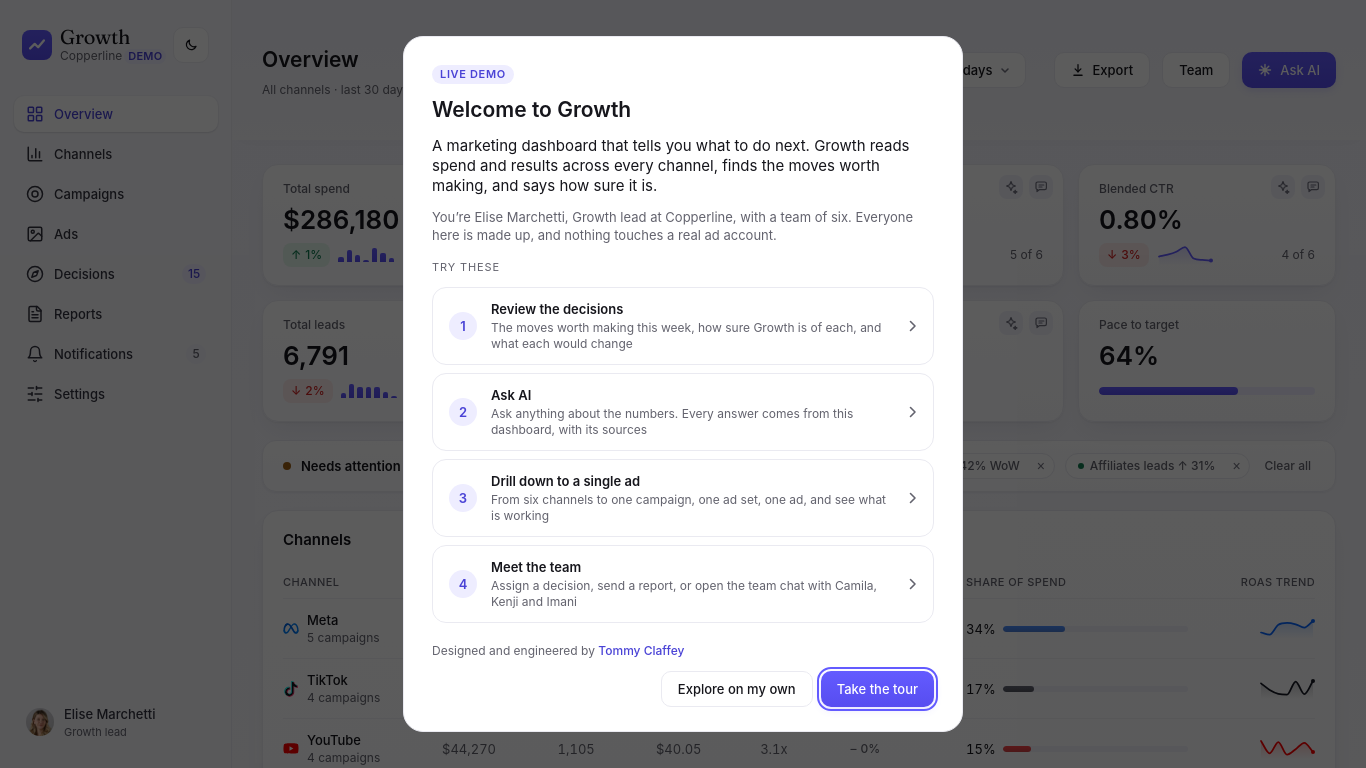
Scenario: the demo welcome card › opens on a demo account's first visit, says what this is, and remembers it was seen
The image size is (1366, 768).
Check: the dialog "Welcome to Growth" shows "Live demo", box [440,67,506,81]
Check: the dialog "Welcome to Growth" shows "Elise Marchetti", box [432,209,913,243]
Click the button "Explore on my own" at (737,689), box [661,671,813,707]
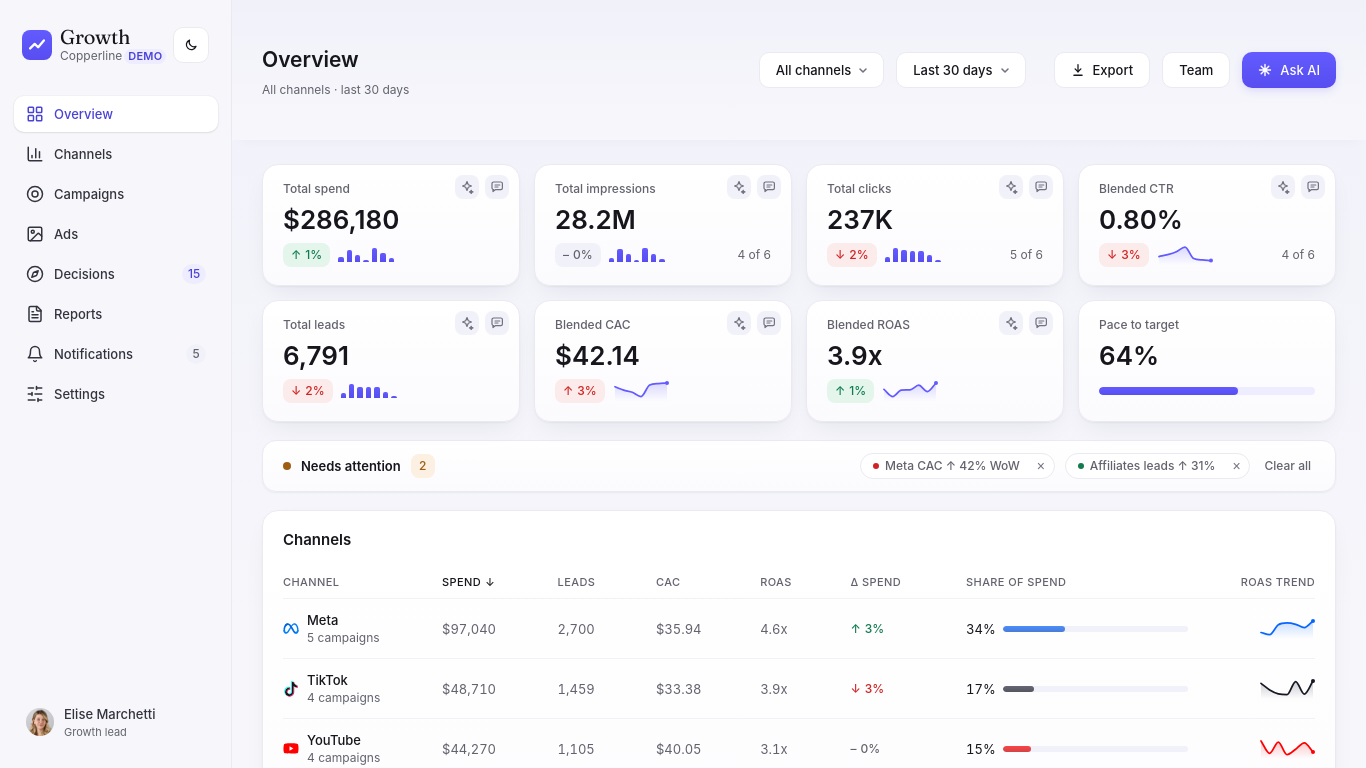
Check: the heading "Welcome to Growth" is gone
